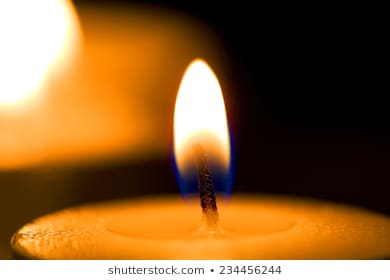Fire: (172, 58, 238, 193)
